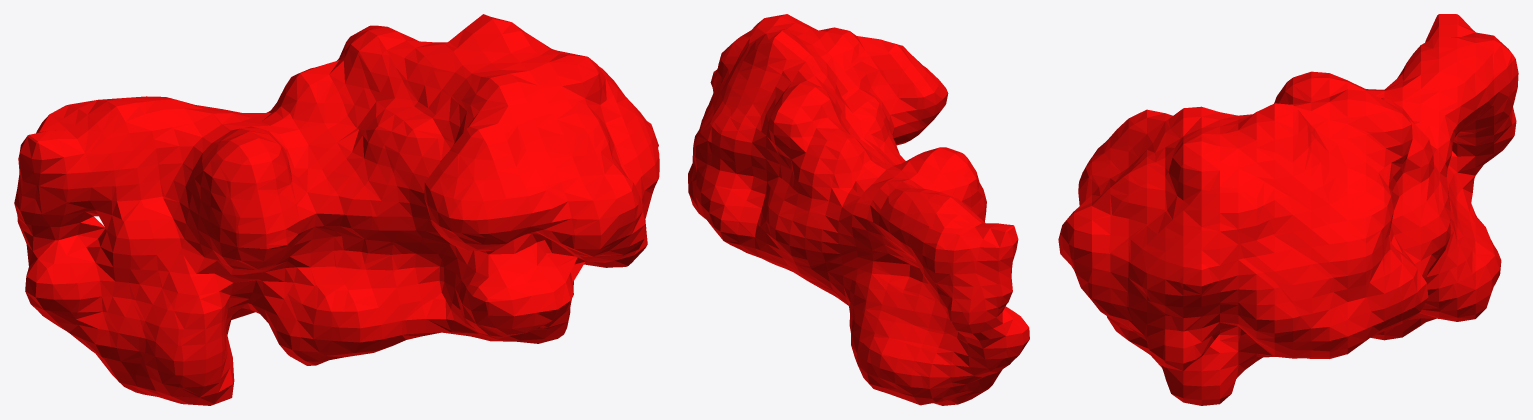
The model's file is mrdA_coarse.dae.
The picture shows the model from 3 angles, left to right: view 1: azimuth 30°, elevation 25°; view 2: azimuth 150°, elevation 25°; view 3: azimuth 270°, elevation 25°; orthographic projection. The views are drawn at different scales.
Visible parts, largest first — view 1: mrdA; view 2: mrdA; view 3: mrdA.
Boxes of the visible parts, x1,y1,x2,y2 form: mrdA: (14, 14, 659, 405); mrdA: (688, 14, 1029, 405); mrdA: (1058, 14, 1518, 405).
Size of the model in its own units: 97.21 by 64.46 by 76.13.
